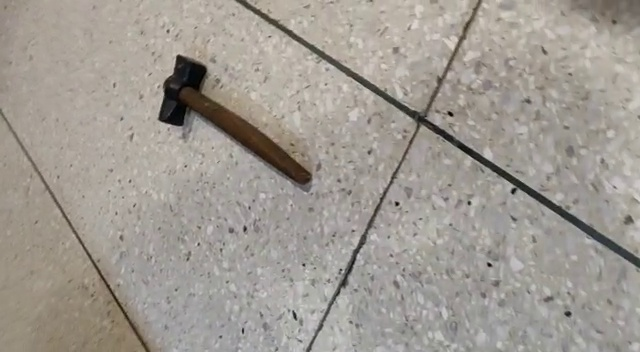hammer: (155, 53, 313, 187)
